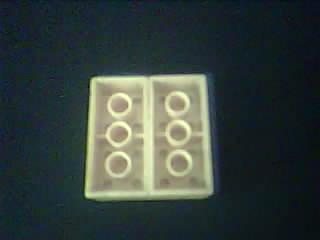lego: (85, 75, 214, 202)
